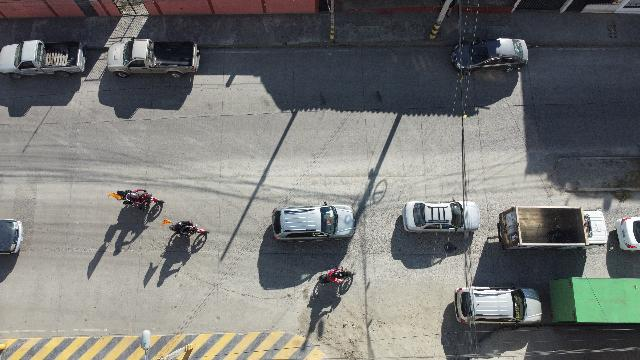Vehiculo: (106, 38, 200, 78), (454, 285, 542, 325), (272, 202, 356, 242), (0, 40, 86, 78), (452, 38, 528, 74), (402, 200, 480, 232), (615, 217, 639, 251), (0, 218, 22, 254)
